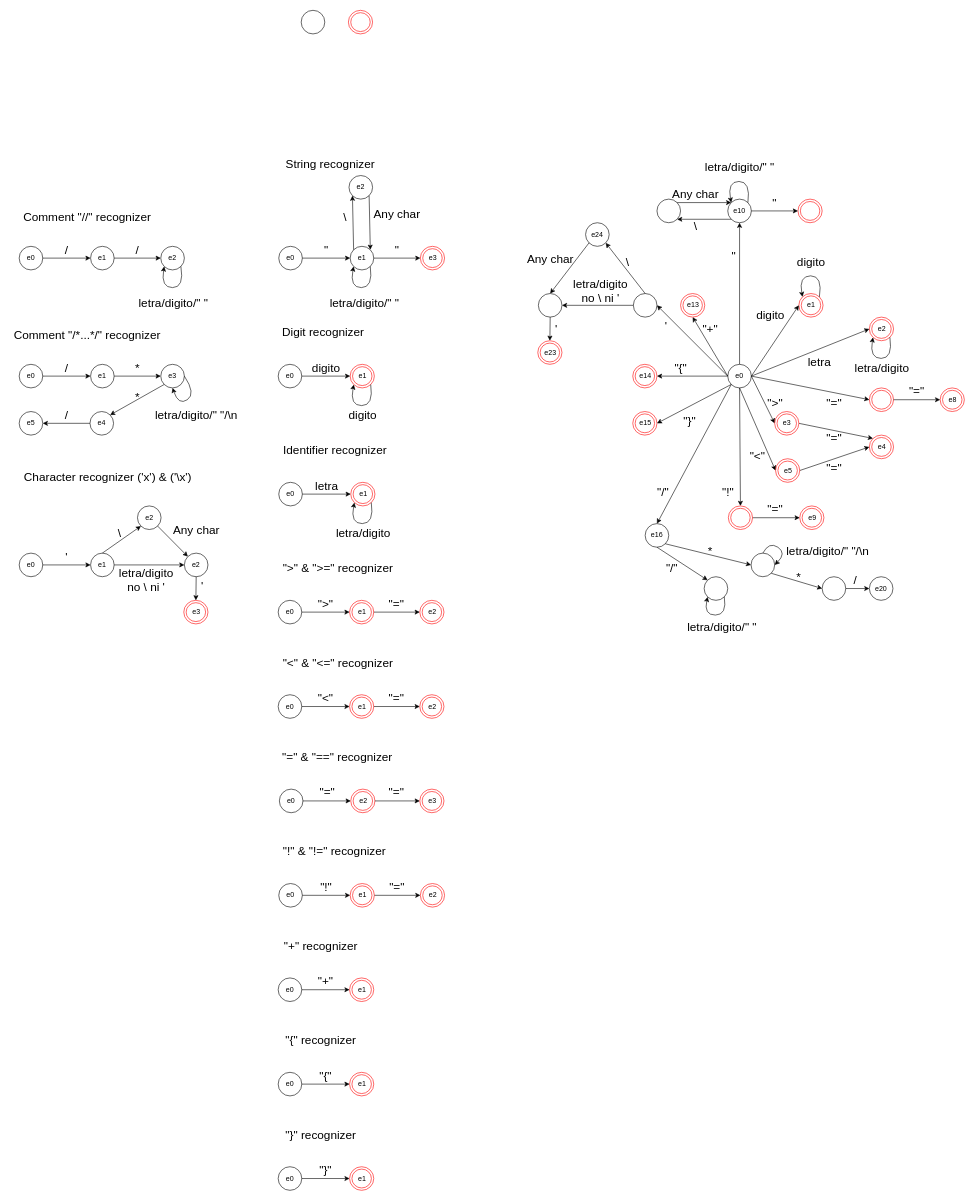
Some shapes in this 975 by 1201 pixel diagram are drawn without their labels. The centre of each missing label's shape, as x and y in pixels:
e11: the point at 668,211
e12: the point at 809,211
e17: the point at 716,588
e18: the point at 762,565
e19: the point at 834,588
e21: the point at 645,305
e22: the point at 550,305
e6: the point at 740,517
e7: the point at 881,399
